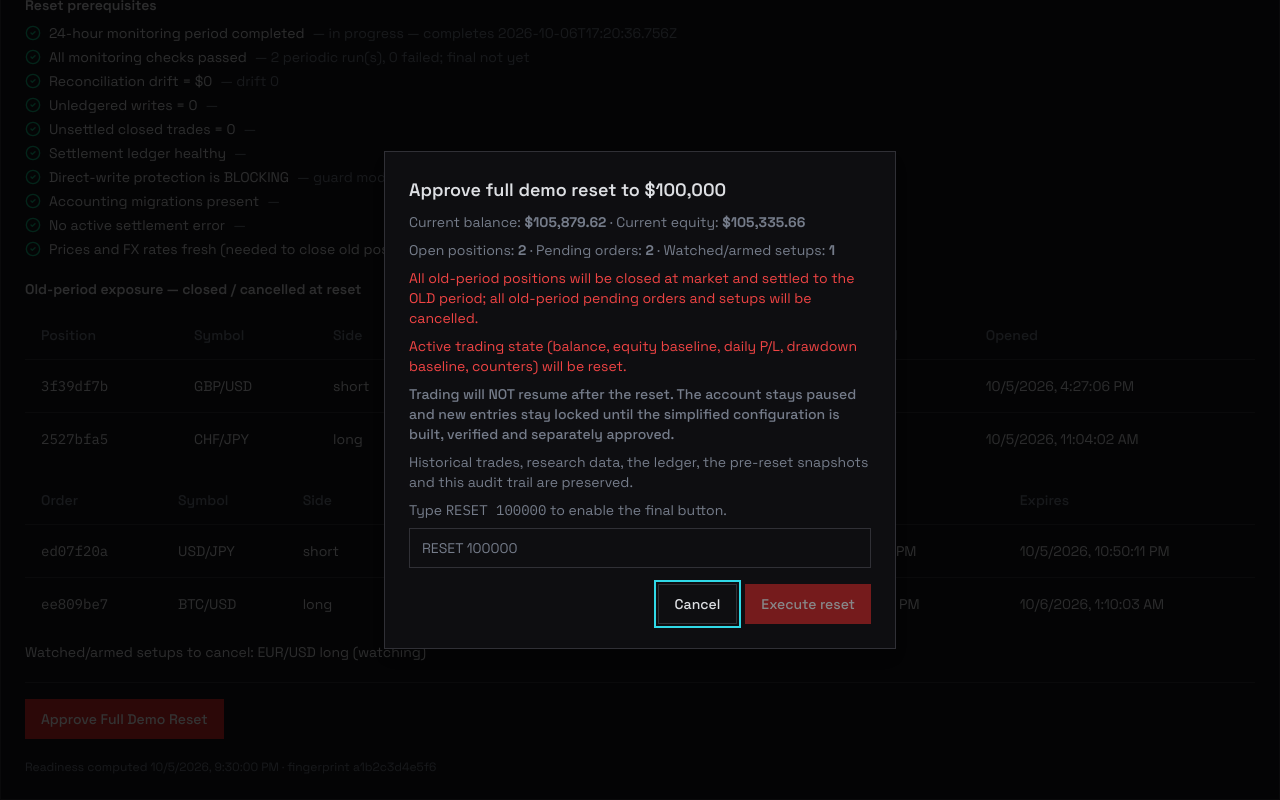
System Reset & Ledger Health › one click only opens the dialog; the final button needs the exact phrase
Earlier steps of the test are not shown.
Later steps or results of the test are not shown.
(page scrolled)
Expected: the dialog with test id "confirm-dialog" shows "$105,879.62", [524, 213, 606, 231]
Expected: the dialog with test id "confirm-dialog" shows "$105,335.66", [722, 213, 805, 231]
Type "reset 100000" into the field with test id "confirm-input" at {"x": 640, "y": 548}, box [409, 528, 871, 568]
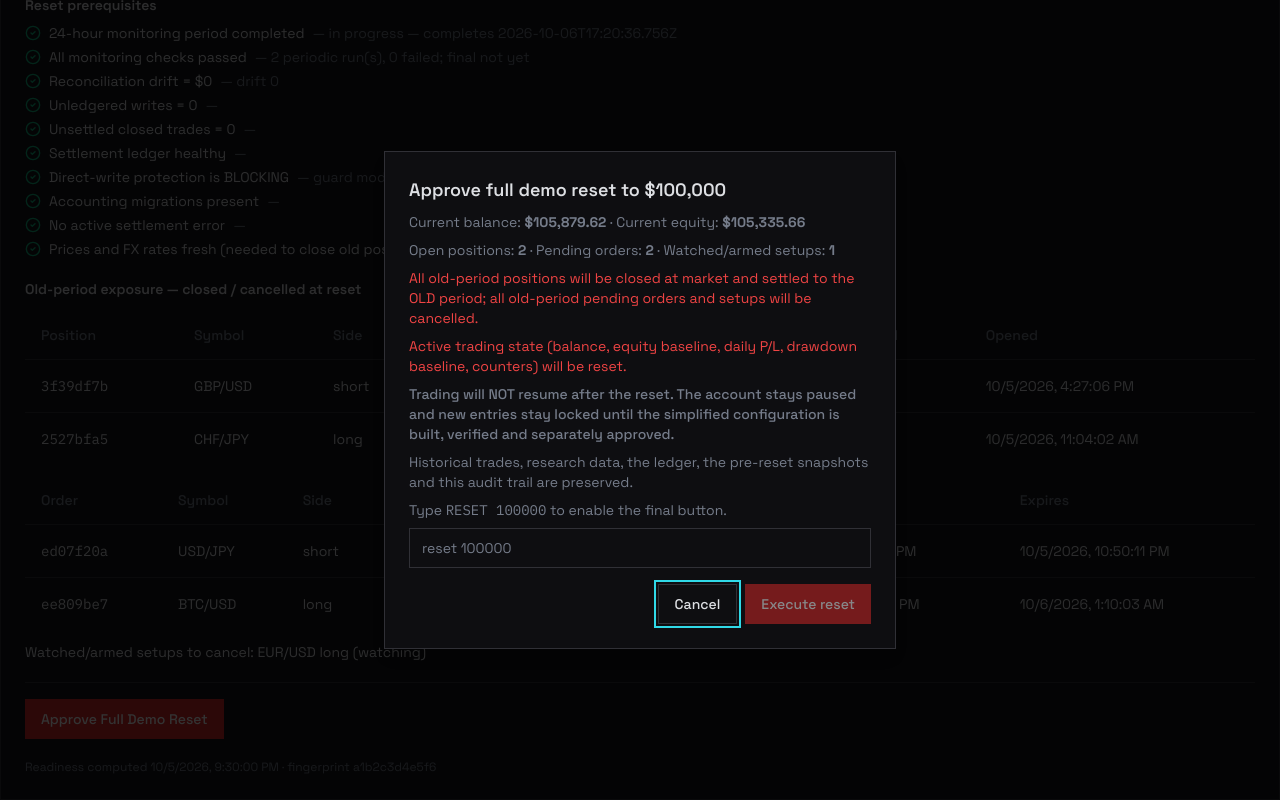
Expected: the button with test id "final-confirm" is disabled, [745, 584, 871, 624]
Replace the text in the field with test id "confirm-input" with "RESET 100,000" at {"x": 640, "y": 548}, box [409, 528, 871, 568]
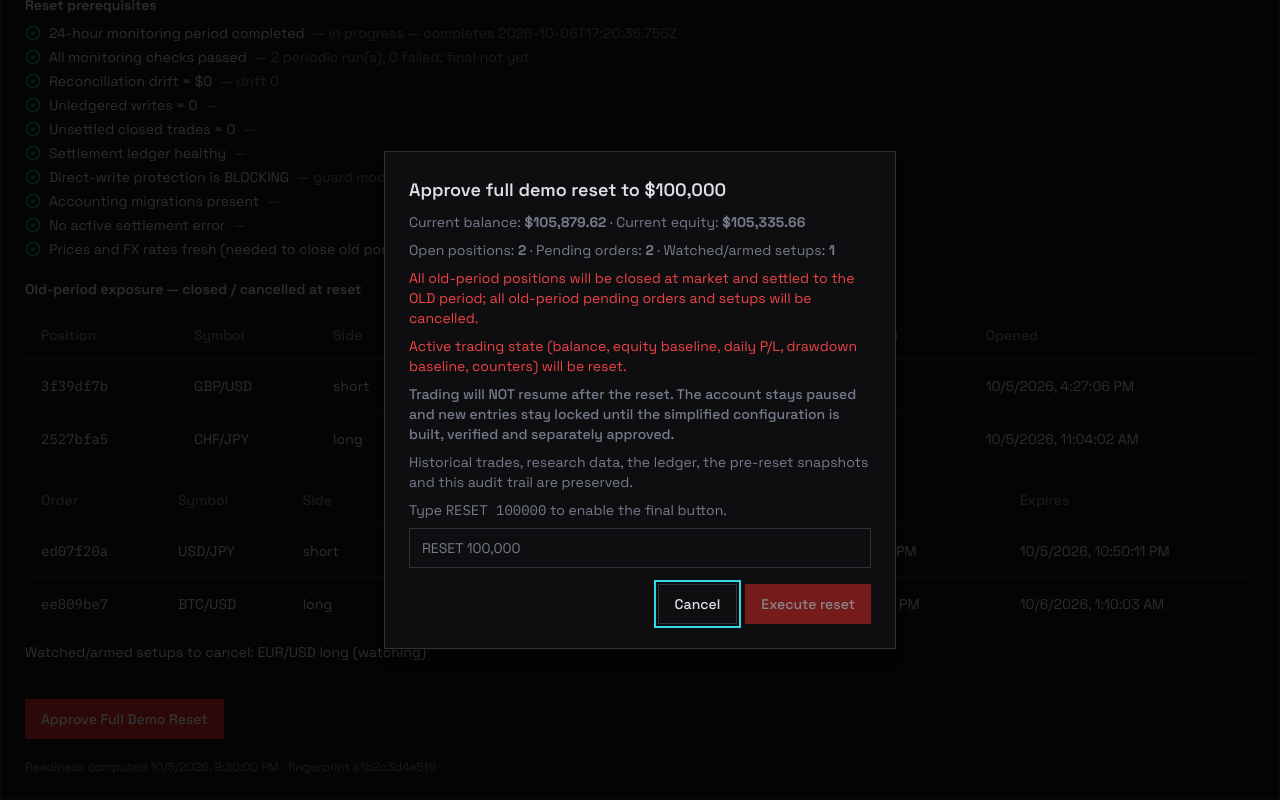
Expected: the button with test id "final-confirm" is disabled, [745, 584, 871, 624]
Replace the text in the field with test id "confirm-input" with "RESET 100000 " at {"x": 640, "y": 548}, box [409, 528, 871, 568]
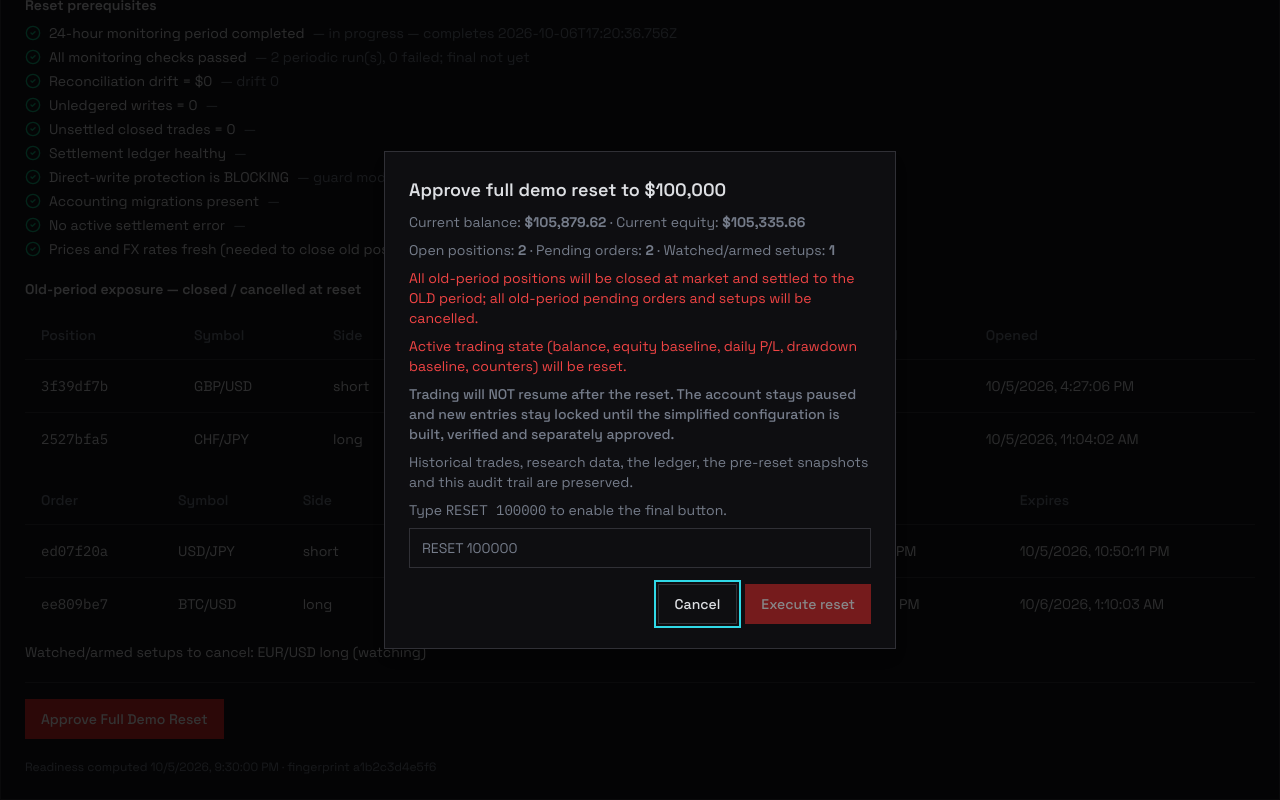
Expected: the button with test id "final-confirm" is disabled, [745, 584, 871, 624]
Type " RESET 100000" into the field with test id "confirm-input" at {"x": 640, "y": 548}, box [409, 528, 871, 568]
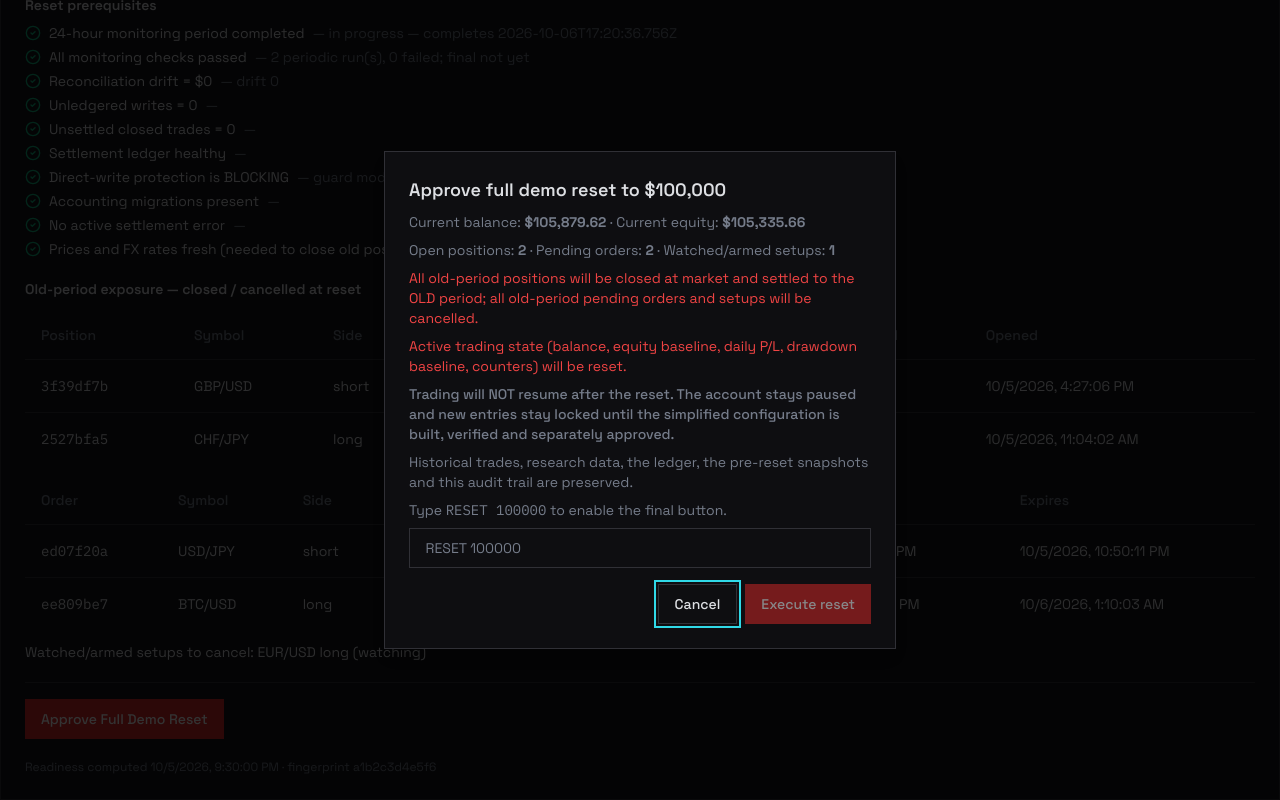
Expected: the button with test id "final-confirm" is disabled, [745, 584, 871, 624]
Type "RESET" into the field with test id "confirm-input" at {"x": 640, "y": 548}, box [409, 528, 871, 568]
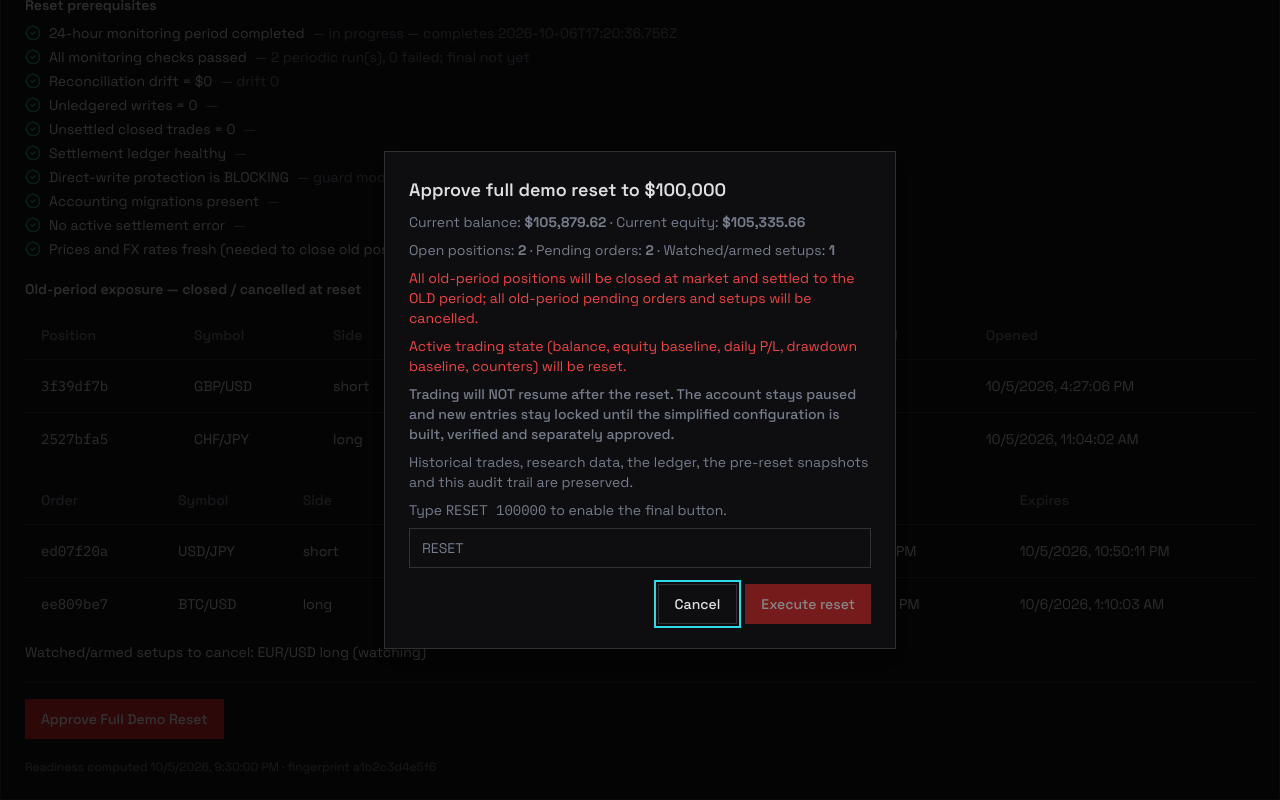
Expected: the button with test id "final-confirm" is disabled, [745, 584, 871, 624]
Replace the text in the field with test id "confirm-input" with "RESET 100000" at {"x": 640, "y": 548}, box [409, 528, 871, 568]
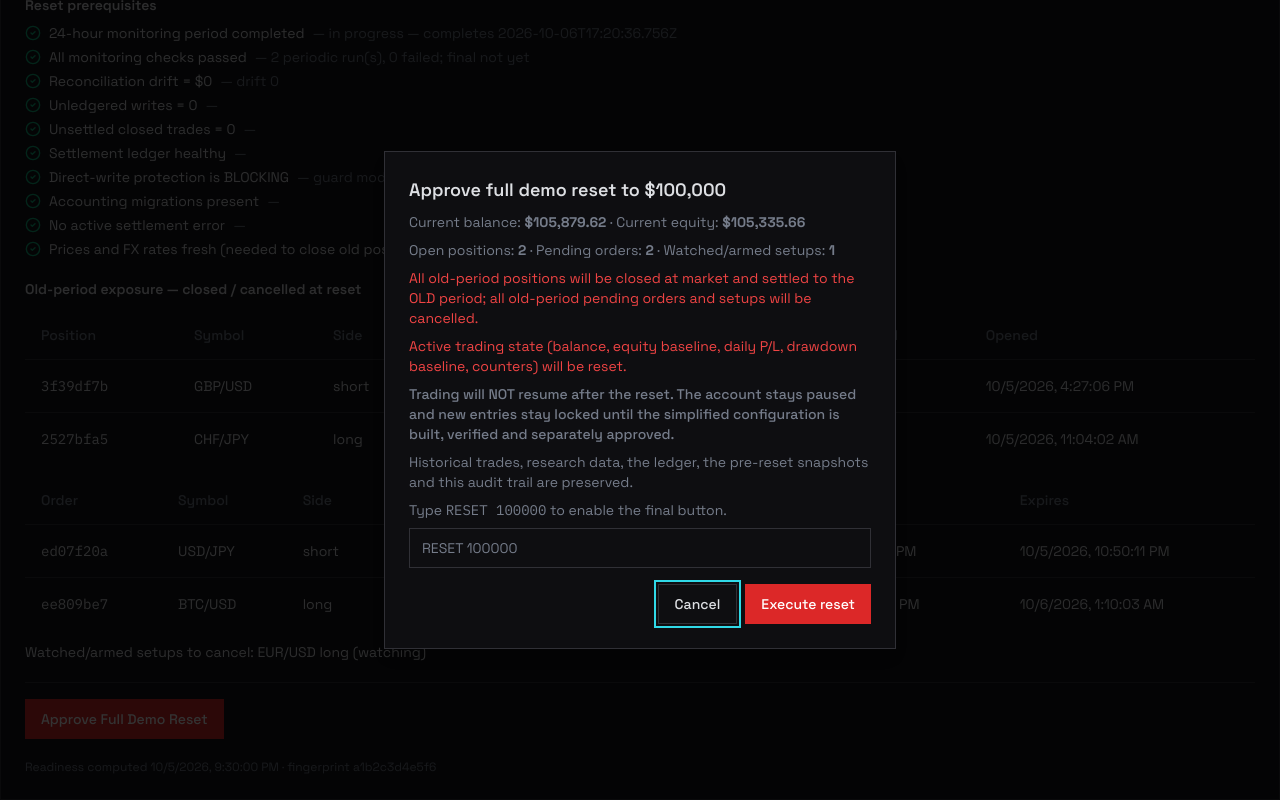
Expected: the button with test id "final-confirm" is enabled, [745, 584, 871, 624]
